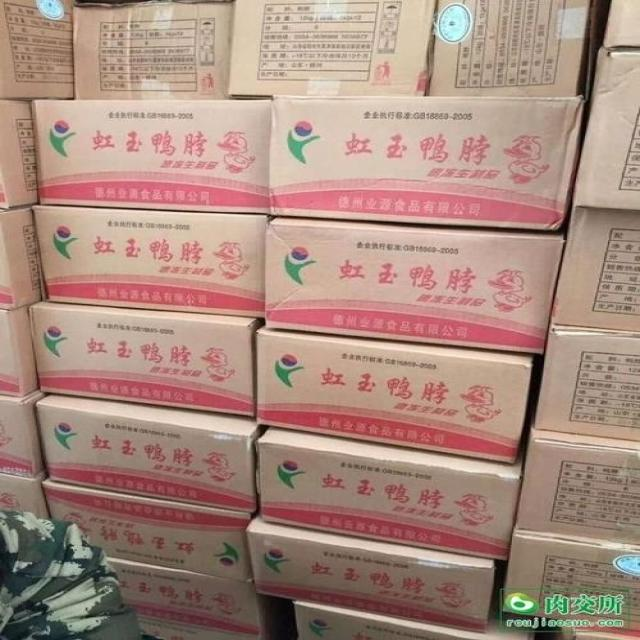box: (269, 94, 590, 231), (265, 214, 567, 353), (255, 326, 532, 462), (257, 425, 522, 560), (248, 514, 498, 631), (36, 393, 270, 517), (29, 98, 273, 215), (28, 205, 271, 320), (28, 299, 266, 415), (44, 480, 253, 585), (229, 0, 439, 97), (430, 1, 612, 98), (74, 0, 233, 98), (516, 426, 640, 546), (499, 529, 640, 633), (531, 326, 640, 442), (108, 558, 260, 638), (567, 51, 640, 209), (553, 204, 640, 334), (296, 594, 539, 640), (0, 1, 74, 98), (0, 204, 47, 310), (0, 298, 47, 396), (0, 96, 38, 208), (0, 389, 46, 480), (0, 470, 52, 523), (600, 0, 639, 51)
